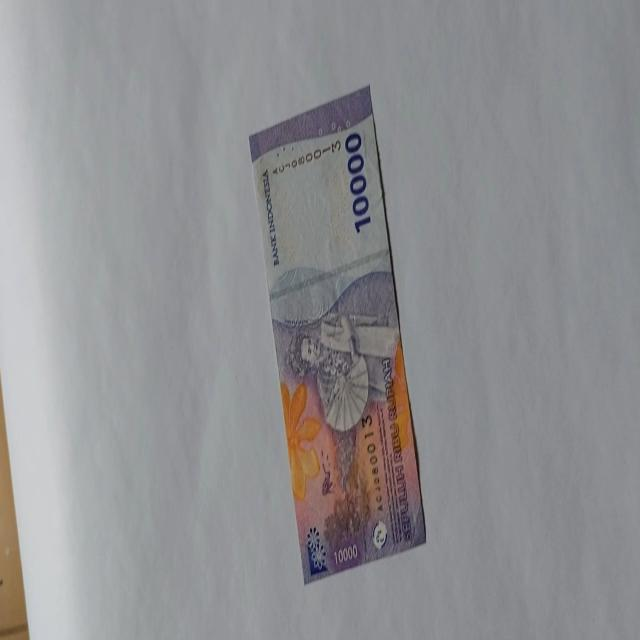sepuluh ribu rupiah: (247, 83, 427, 585)
